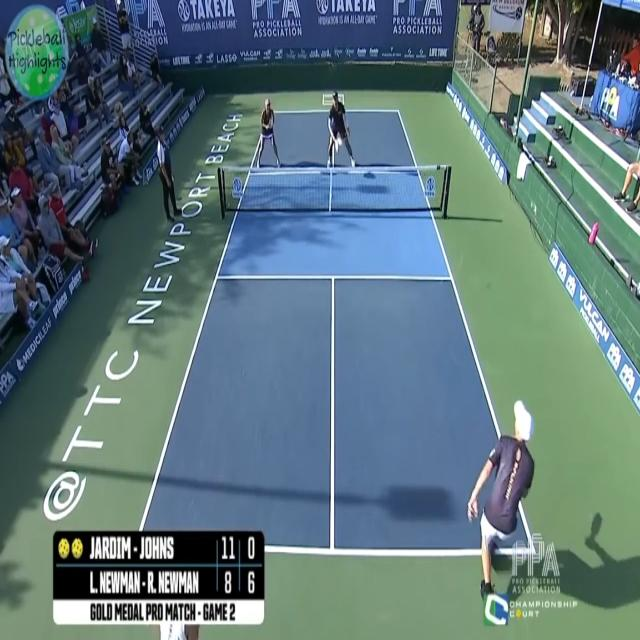Court: (137, 112, 534, 556)
